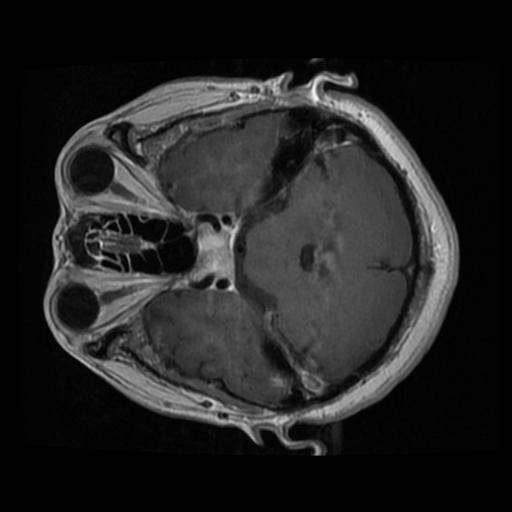pituitary tumour: (188, 225, 232, 282)
